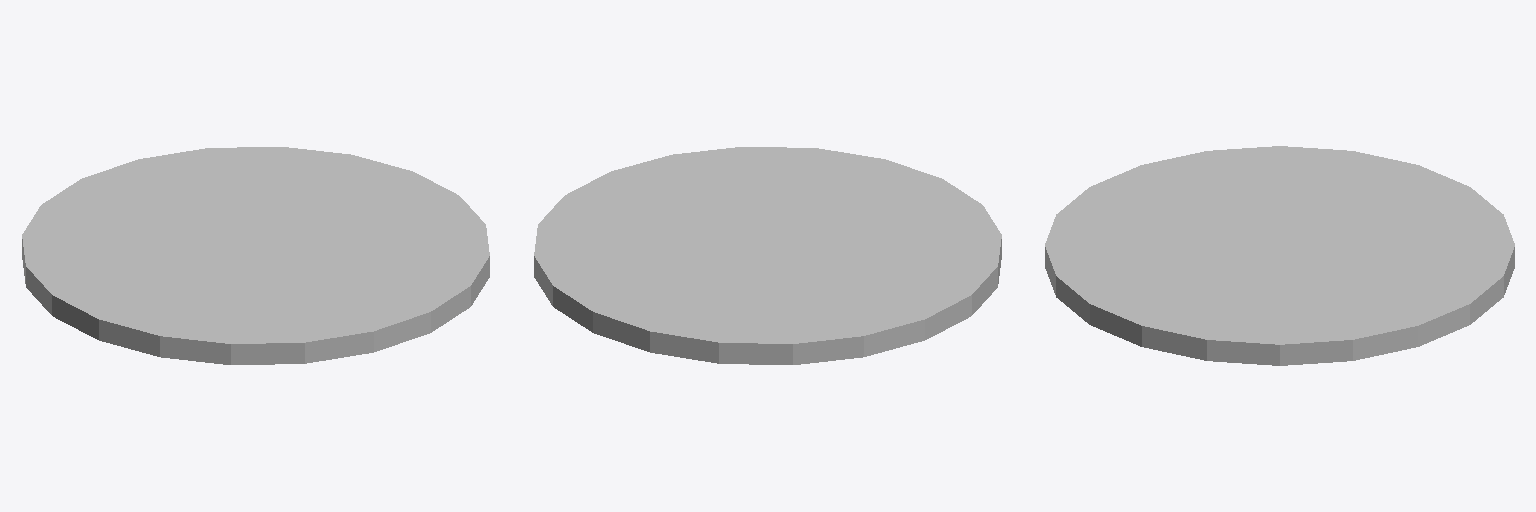
Rendered from Hub.obj.
The picture shows the model from 3 angles: view 1: azimuth 30°, elevation 25°; view 2: azimuth 150°, elevation 25°; view 3: azimuth 270°, elevation 25°; orthographic projection.
Visible parts, largest first — view 1: Hub; view 2: Hub; view 3: Hub.
Part boxes in pixels (left/top/right/bottom): Hub: left=22, top=147, right=489, bottom=364; Hub: left=534, top=147, right=1001, bottom=364; Hub: left=1045, top=146, right=1514, bottom=365.
Bounding box in the file's own units: 6.96 × 0.346 × 6.96.